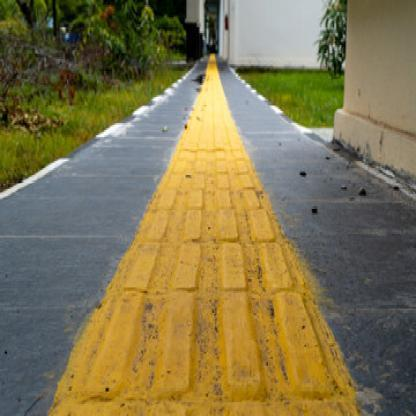podotacti: (49, 50, 363, 412)
